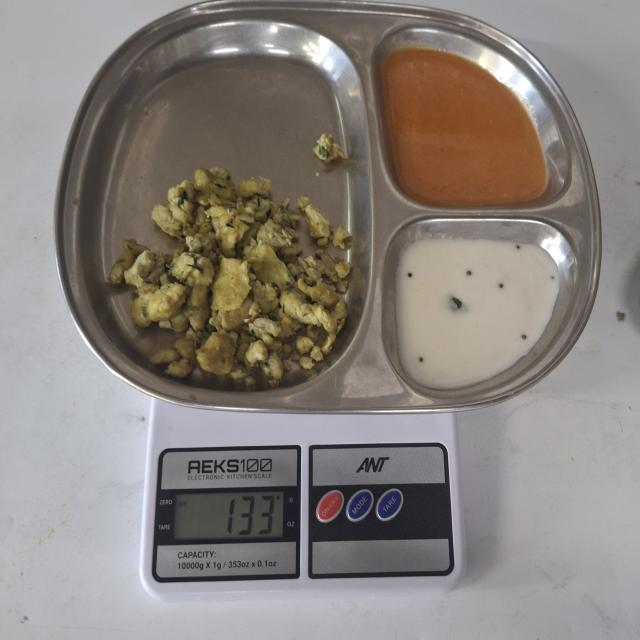Chutney: (379, 48, 551, 204), (402, 237, 562, 393)
Egg Bhurji: (110, 129, 357, 390)
